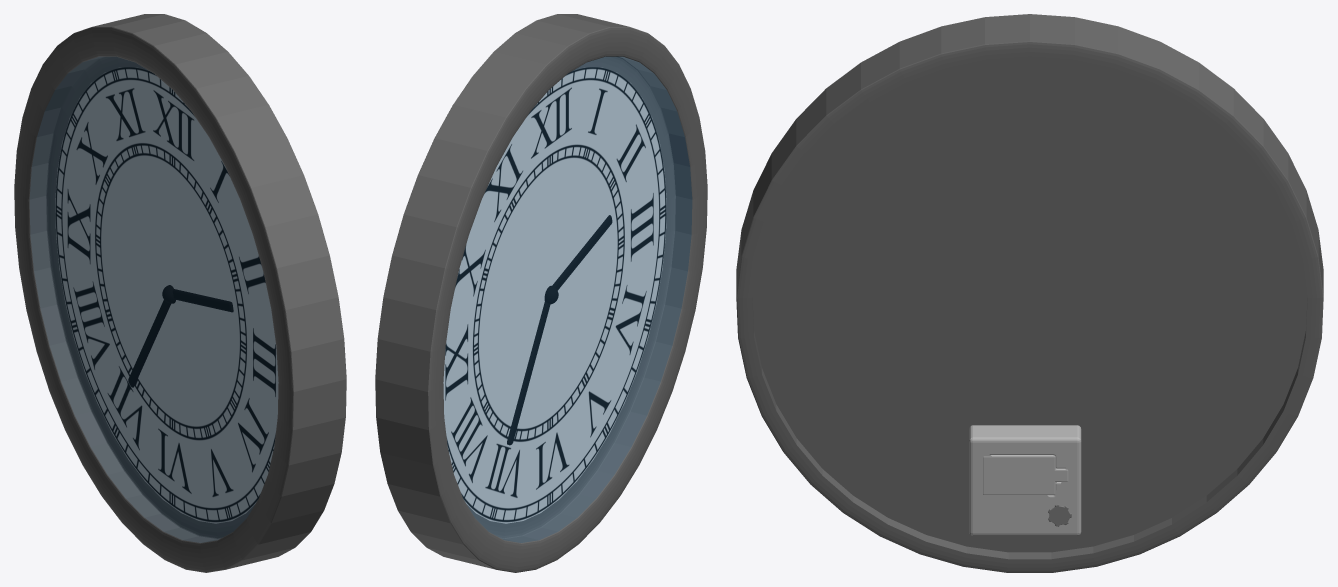
File: hologe1.fbx
3 views of the same model, side by side, from view 1: azimuth 30°, elevation 25°; view 2: azimuth 150°, elevation 25°; view 3: azimuth 270°, elevation 25° (orthographic). The views are drawn at different scales.
Visible parts, largest first — view 1: Horloge, AiguilleMinute, AiguilleHeure; view 2: Horloge, AiguilleMinute, AiguilleHeure; view 3: Horloge, Boitier, Clapet.
Part boxes in pixels (box(x1,y1,x2,y2)): Horloge: box(14, 14, 346, 572); AiguilleMinute: box(128, 300, 170, 387); AiguilleHeure: box(172, 289, 233, 312); Horloge: box(375, 14, 707, 572); AiguilleMinute: box(507, 301, 550, 445); AiguilleHeure: box(552, 215, 612, 290); Horloge: box(736, 14, 1323, 572); Boitier: box(969, 425, 1081, 535); Clapet: box(983, 455, 1068, 495).
Bounding box in the file's own units: 24.28 × 169 × 169.
